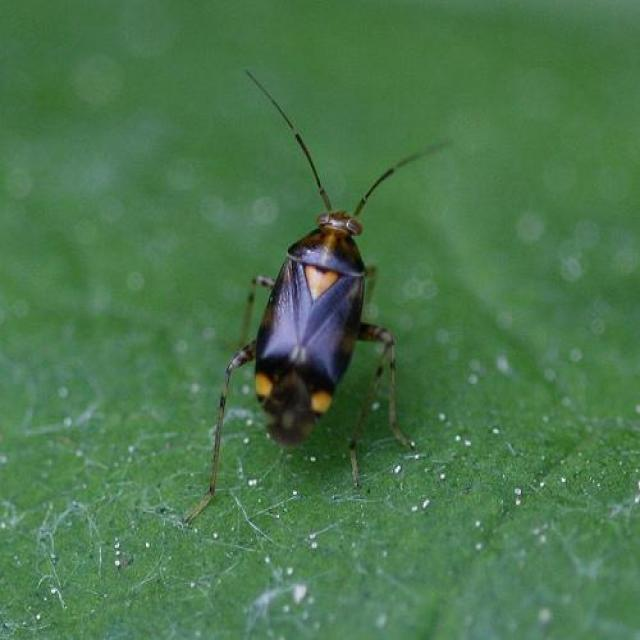Miridae-Adult-: (204, 67, 444, 503)
